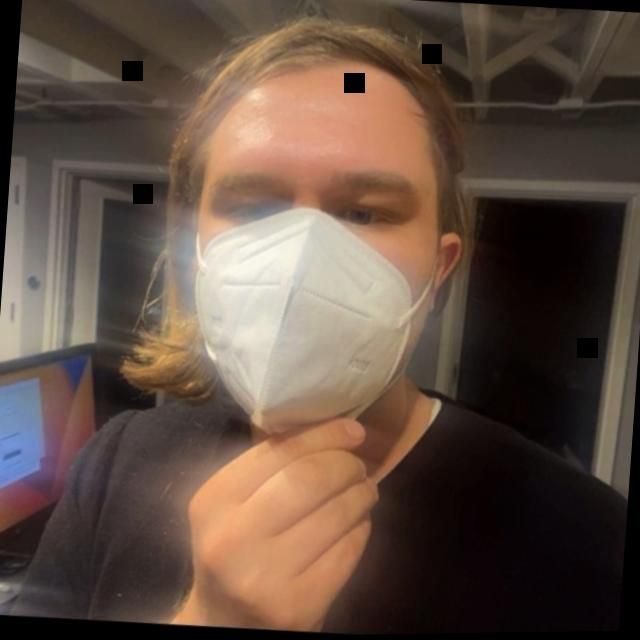Mask: (105, 2, 508, 448)
